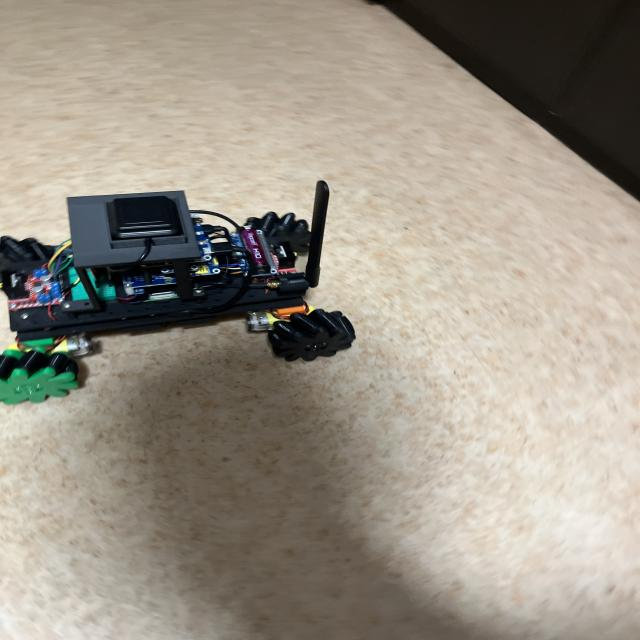robot: (0, 181, 355, 404)
